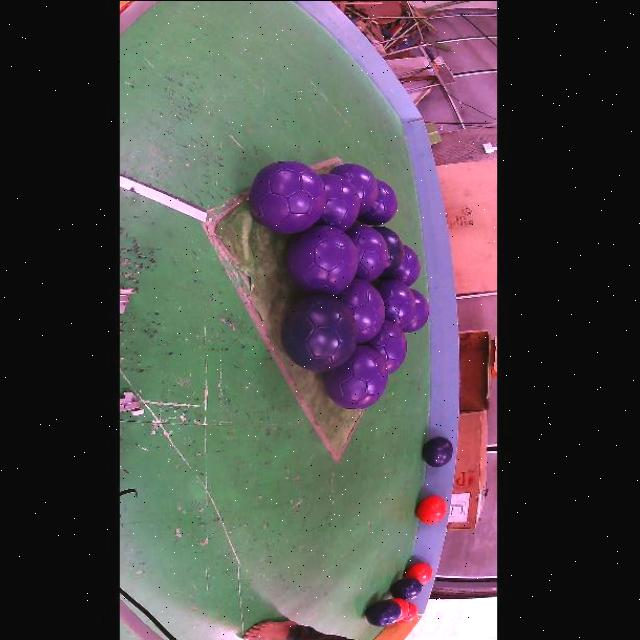B: (283, 293, 358, 371), (373, 225, 404, 274), (366, 599, 401, 626), (422, 436, 453, 466), (391, 577, 422, 600)
P: (249, 161, 327, 233), (286, 224, 358, 293), (324, 344, 388, 409), (336, 276, 386, 340), (346, 222, 388, 280), (331, 162, 378, 213), (317, 173, 359, 230), (363, 319, 407, 372), (376, 279, 416, 327), (358, 179, 397, 225), (386, 245, 421, 285), (401, 288, 429, 331)
R: (417, 495, 447, 523), (405, 562, 433, 584), (397, 601, 418, 622), (395, 596, 409, 621)
